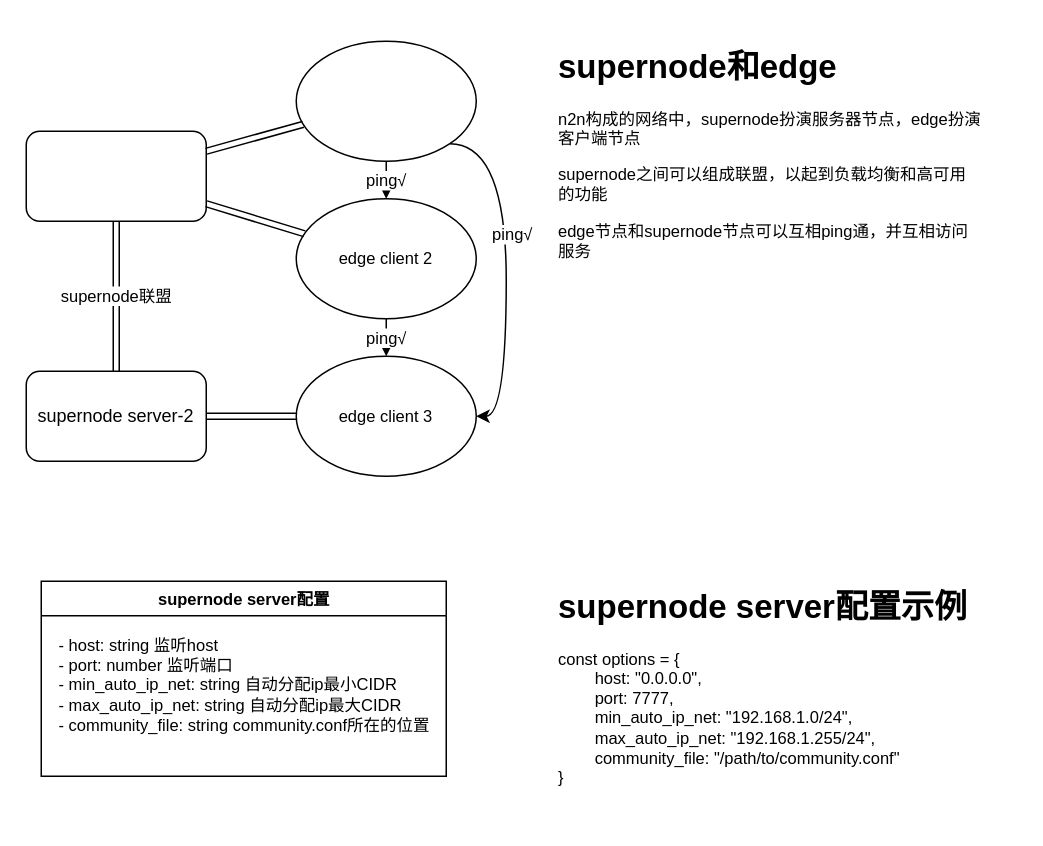
The diagram is 1043 pixels wide and 846 high, and some of its shapes have lost their labels. The shapes that lost their labels are listed below. From the top down, each one's centre as x and y in pixels, then its label:
At (385,100): "edge client 1".
At (115,175): "supernode server-1".
